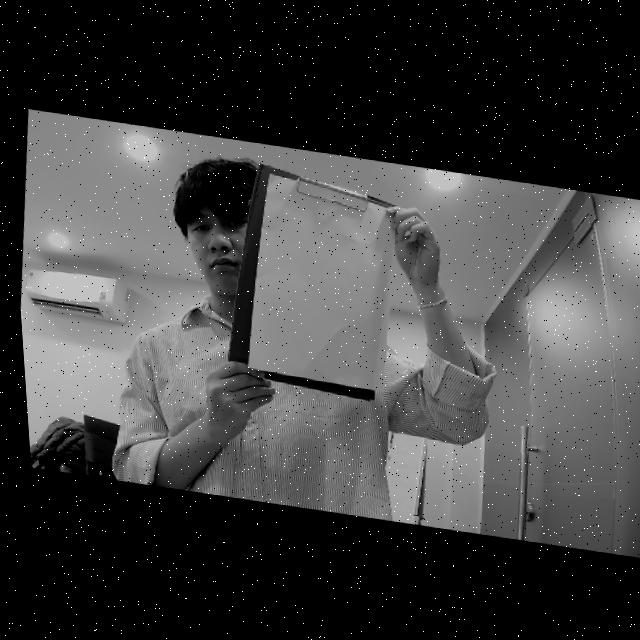face: (177, 193, 252, 297)
